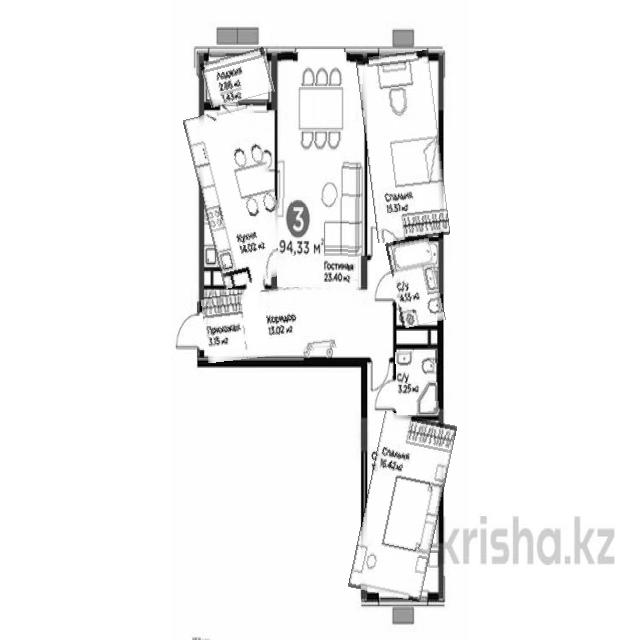balcony: (203, 51, 273, 104)
bathroom: (390, 236, 442, 327), (396, 350, 440, 414)
hallway: (203, 284, 363, 358)
kitchen: (193, 106, 284, 286)
living_room: (278, 52, 362, 287), (357, 414, 449, 599), (360, 52, 445, 242)
